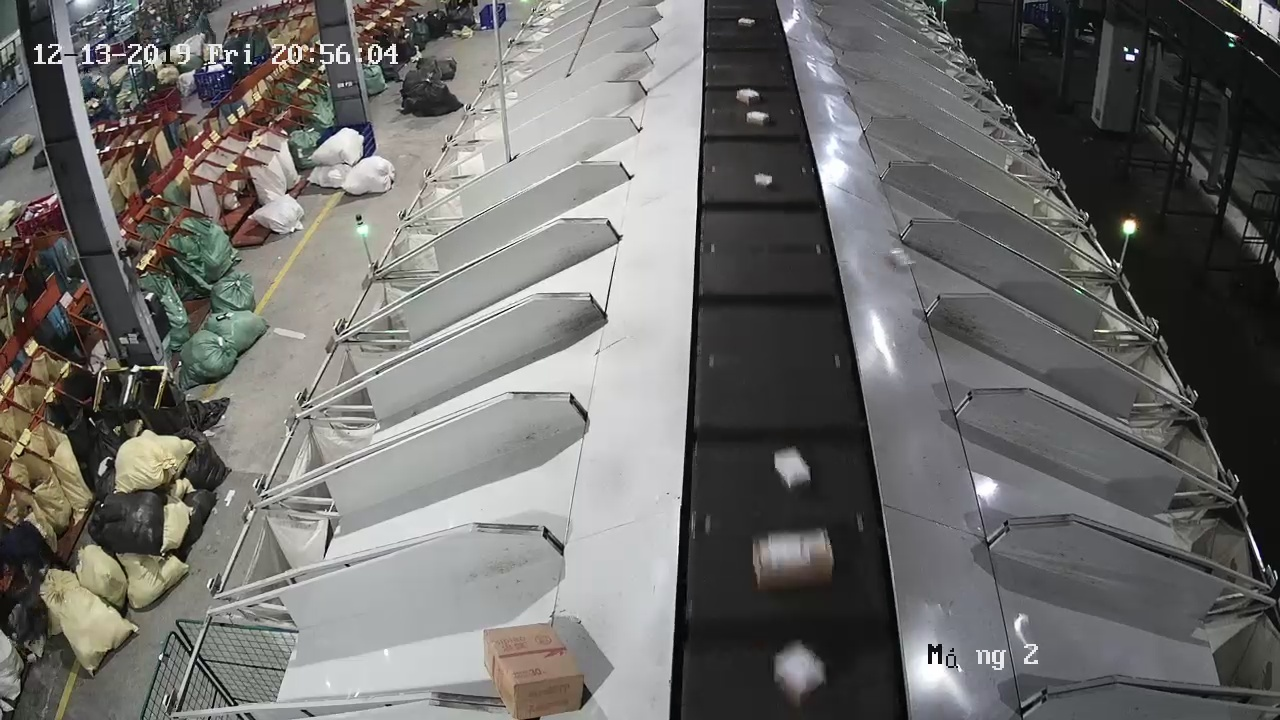parcel: (888, 247, 916, 269)
